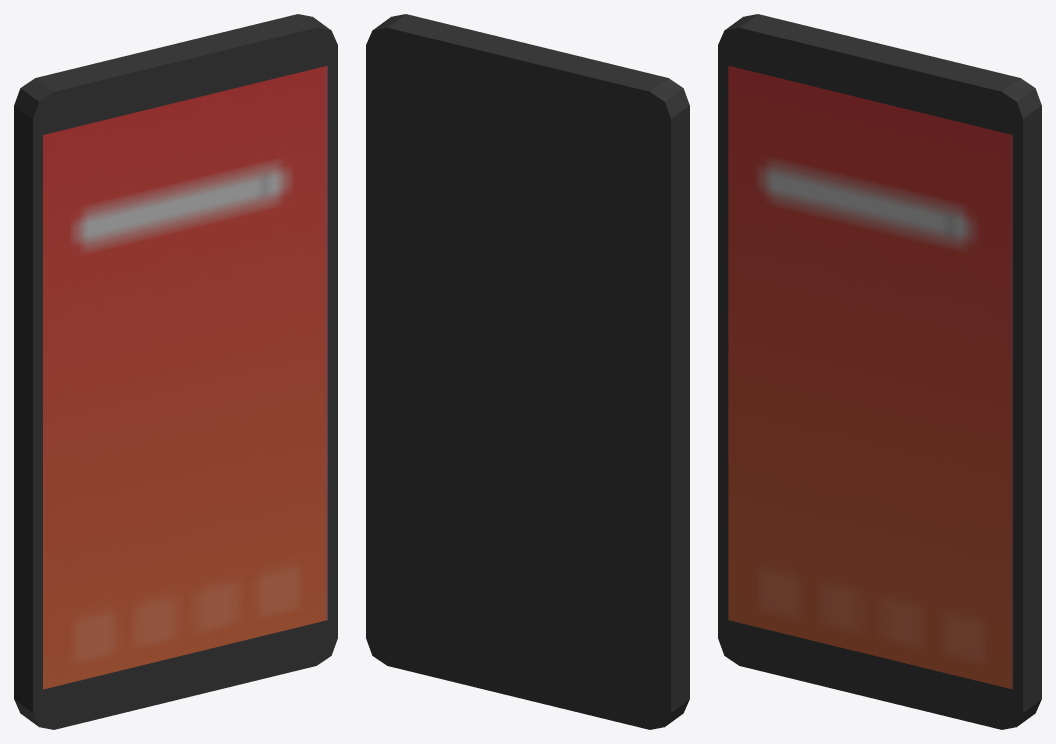
File: SM_Props_Interior_Shop_Electronic_Mobile_02.fbx
3 renders of one model, left to right at view 1: azimuth 30°, elevation 25°; view 2: azimuth 150°, elevation 25°; view 3: azimuth 330°, elevation 25°, orthographic.
Visible parts, largest first — view 1: SM_Props_Interior_Shop_Electronic_Mobile_02; view 2: SM_Props_Interior_Shop_Electronic_Mobile_02; view 3: SM_Props_Interior_Shop_Electronic_Mobile_02.
Part boxes in pixels (x1=…): SM_Props_Interior_Shop_Electronic_Mobile_02: x1=14, y1=14, x2=337, y2=729; SM_Props_Interior_Shop_Electronic_Mobile_02: x1=366, y1=14, x2=689, y2=729; SM_Props_Interior_Shop_Electronic_Mobile_02: x1=718, y1=14, x2=1041, y2=729.
Size of the model in its own units: 7.5 by 15 by 0.8.
